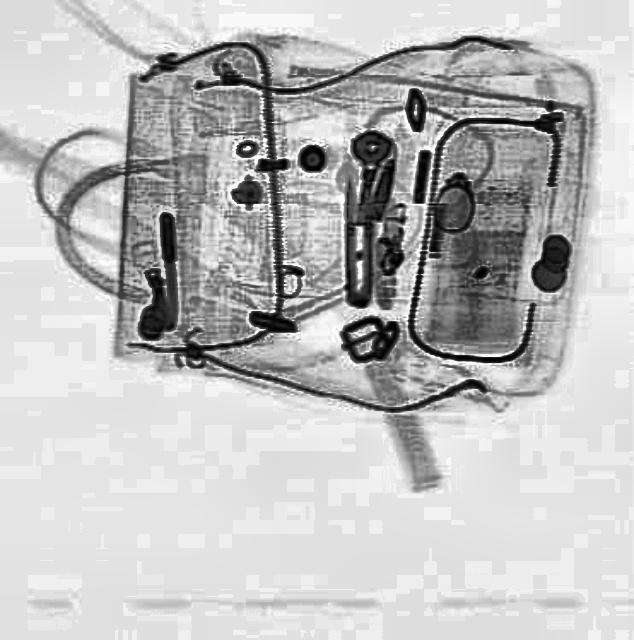Scissors: (341, 170, 374, 306)
